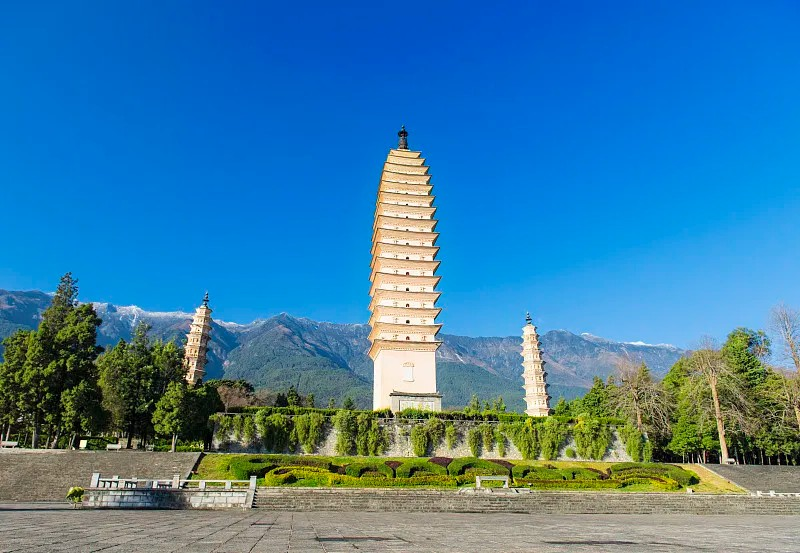ThreePagoda: (367, 126, 442, 412)
